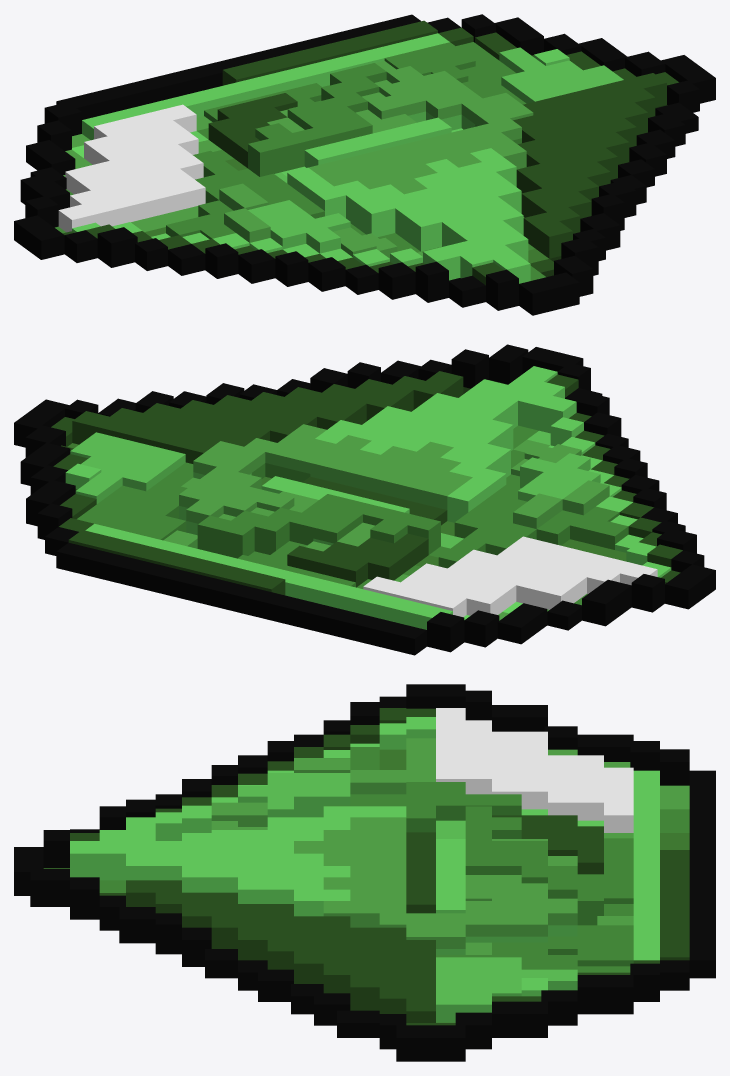
Rendered from gem-0-d8sae5s-ce545b22-4f63-4fb3-9e78-7e5093053cf5.obj.
3 views of the same model, one above another, from view 1: azimuth 30°, elevation 25°; view 2: azimuth 150°, elevation 25°; view 3: azimuth 270°, elevation 25° (orthographic). The views are drawn at different scales.
Visible parts, largest first — view 1: d8sae5s-ce545b22-4f63-4fb3-9e78-7e5093053cf5; view 2: d8sae5s-ce545b22-4f63-4fb3-9e78-7e5093053cf5; view 3: d8sae5s-ce545b22-4f63-4fb3-9e78-7e5093053cf5.
Boxes of the visible parts, bbox=[...] form: d8sae5s-ce545b22-4f63-4fb3-9e78-7e5093053cf5: bbox=[14, 14, 715, 315]; d8sae5s-ce545b22-4f63-4fb3-9e78-7e5093053cf5: bbox=[14, 344, 715, 655]; d8sae5s-ce545b22-4f63-4fb3-9e78-7e5093053cf5: bbox=[14, 684, 715, 1061].
Bounding box in the file's own units: 25.6 × 1 × 21.3.
Materials: 1 (1 with a texture image).
